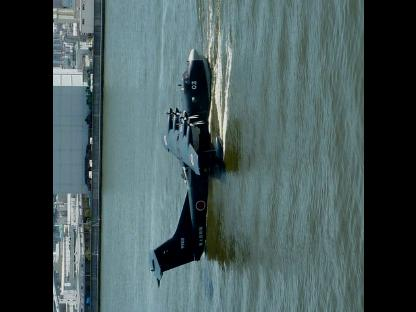Tu95: (146, 49, 221, 289)
